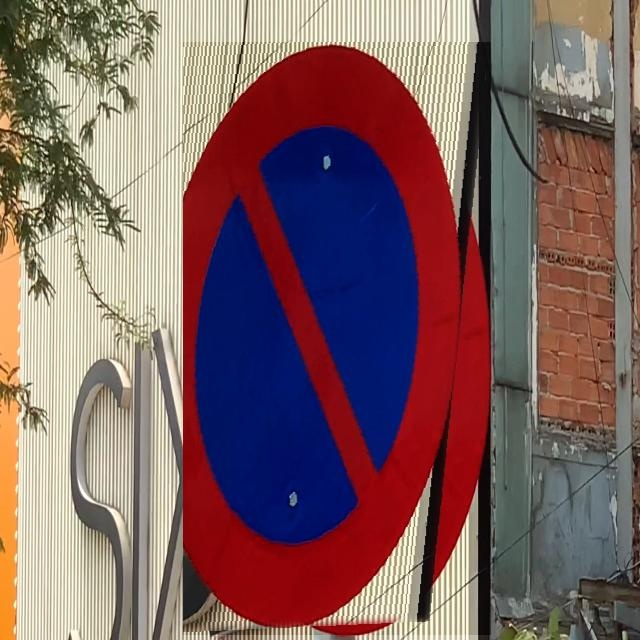bien_cam: (183, 42, 491, 635)
